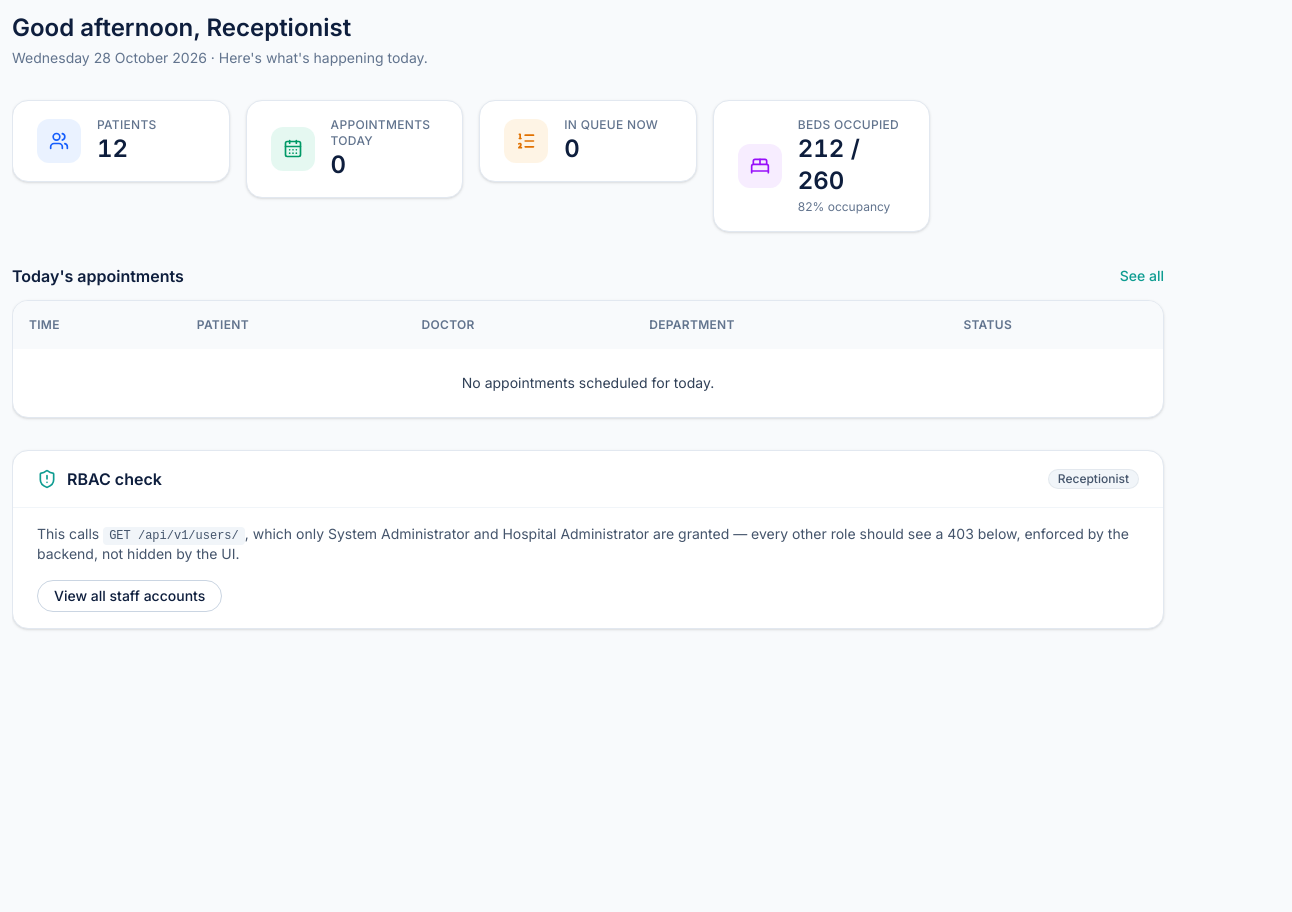
Dashboard › shows the RBAC deny message when the users list returns 403
Click the button "View all staff accounts". click: (130, 596)
box: [37,580,222,612]
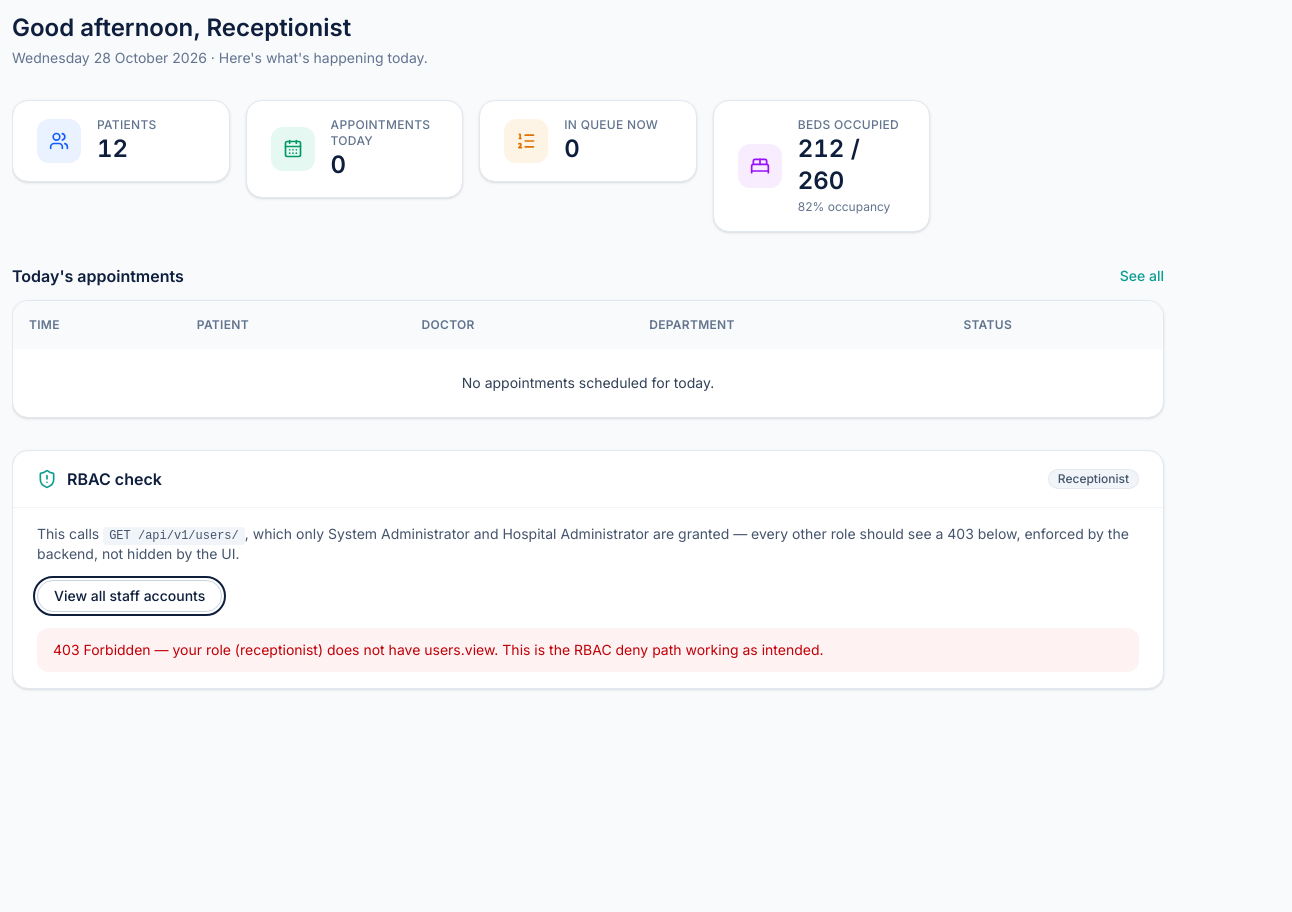
Expected: the text "403 Forbidden" is shown, [53,641,240,658]
